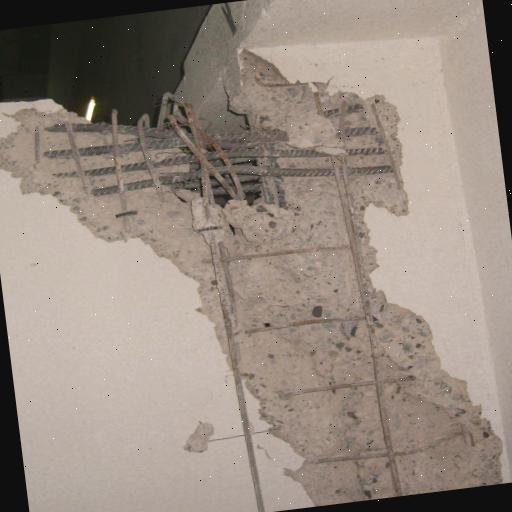spalling: (0, 49, 503, 506)
